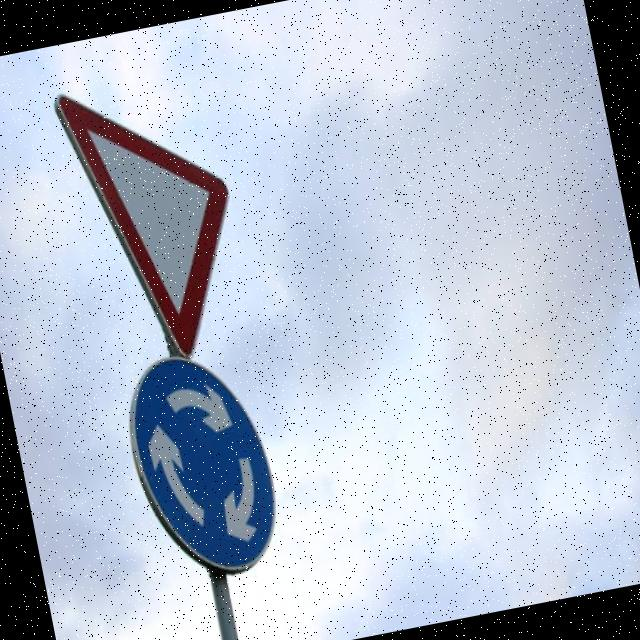round_about: (110, 343, 292, 592)
